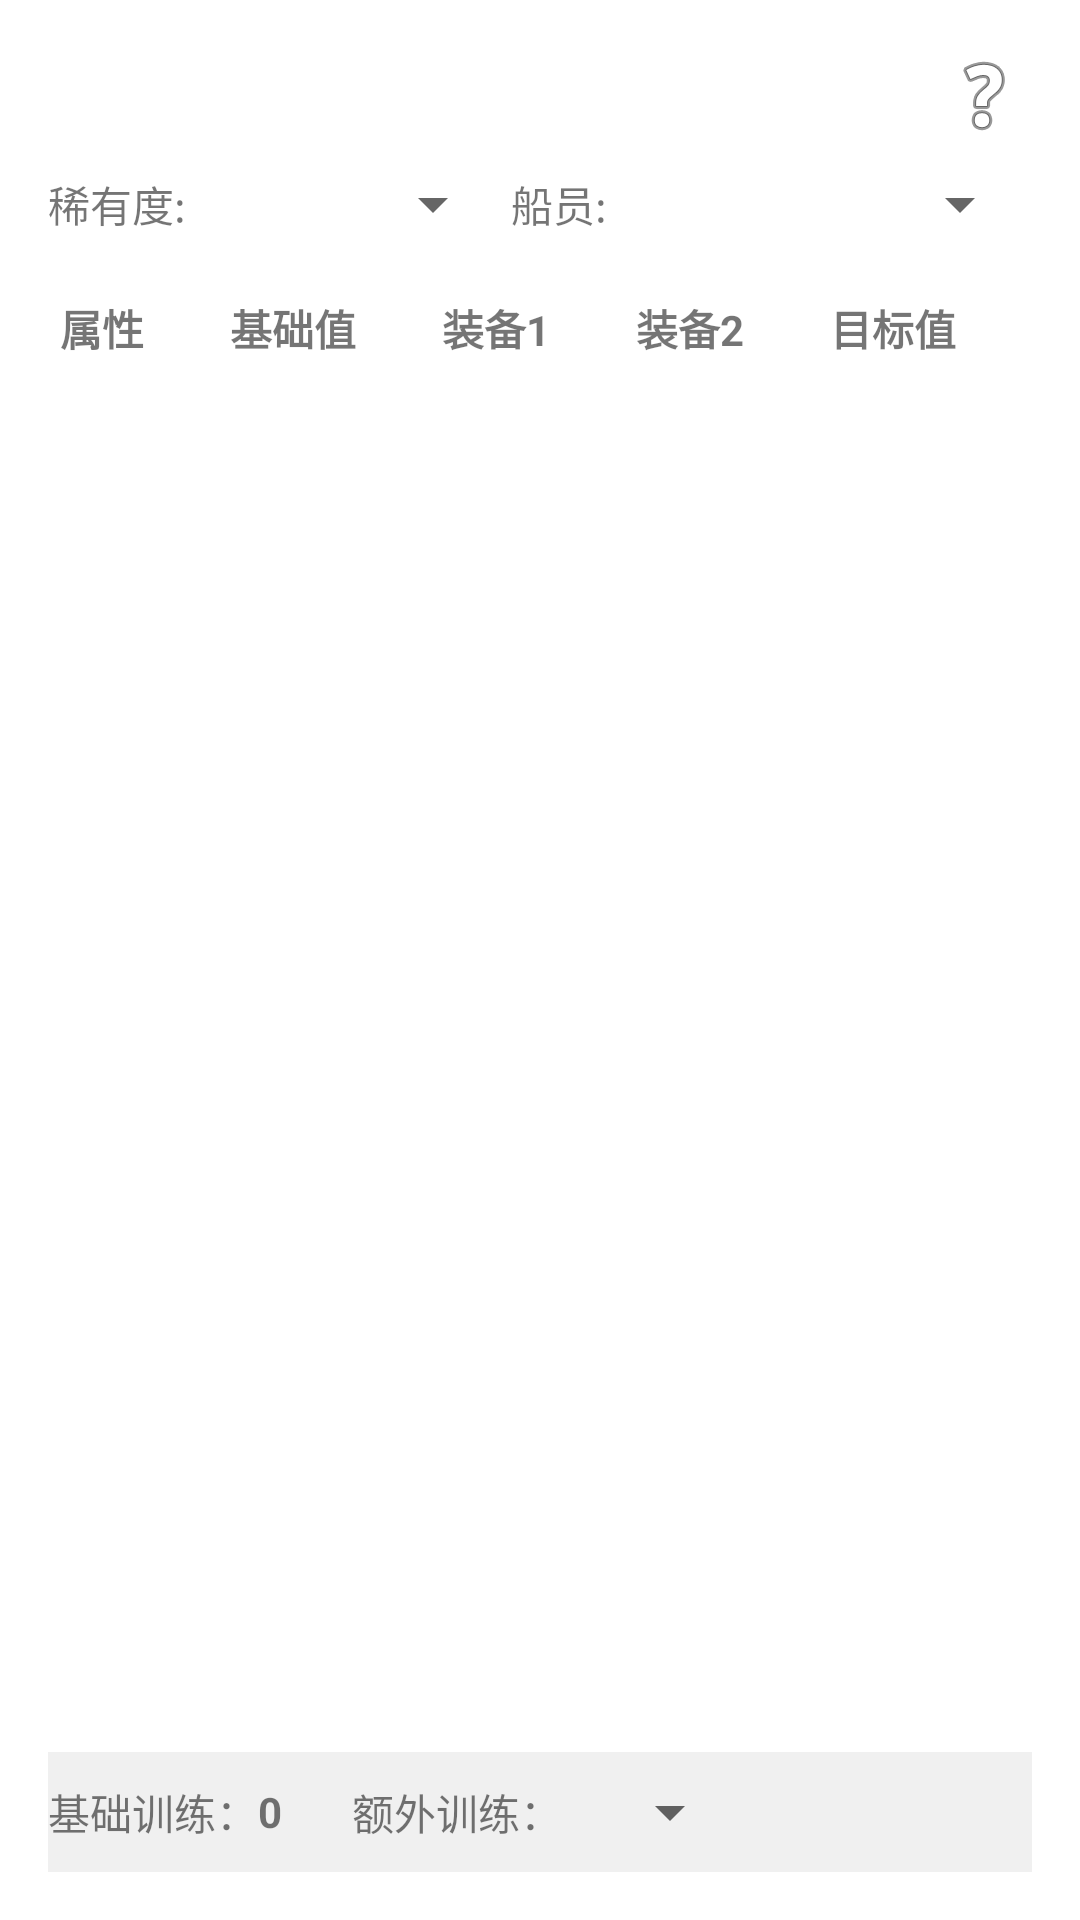

Where icons sit on this 1080 x 1920 app screen, as (x1, y1, x2, y2):
help: (963, 62, 1005, 130)
